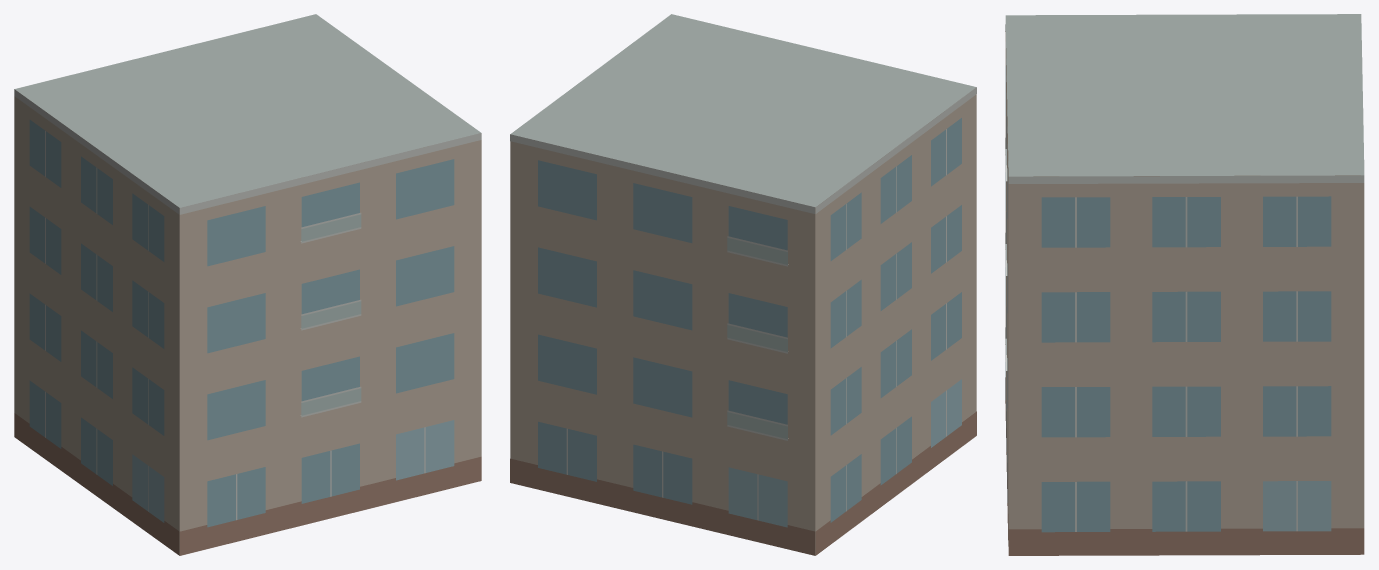
File: survey-upis-33039976.glb
3 renders of one model, left to right at view 1: azimuth 30°, elevation 25°; view 2: azimuth 150°, elevation 25°; view 3: azimuth 270°, elevation 25°, orthographic. The views are drawn at different scales.
Visible parts, largest first — view 1: survey-upis-33039976.tmp; view 2: survey-upis-33039976.tmp; view 3: survey-upis-33039976.tmp.
Part boxes in pixels (x1=…): survey-upis-33039976.tmp: x1=14, y1=14, x2=481, y2=555; survey-upis-33039976.tmp: x1=510, y1=14, x2=976, y2=555; survey-upis-33039976.tmp: x1=1005, y1=14, x2=1364, y2=555.
Size of the model in its own units: 11.22 by 12.2 by 10.47.
